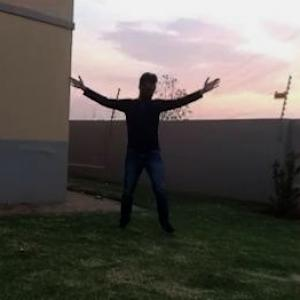takeoff: (85, 47, 245, 235)
